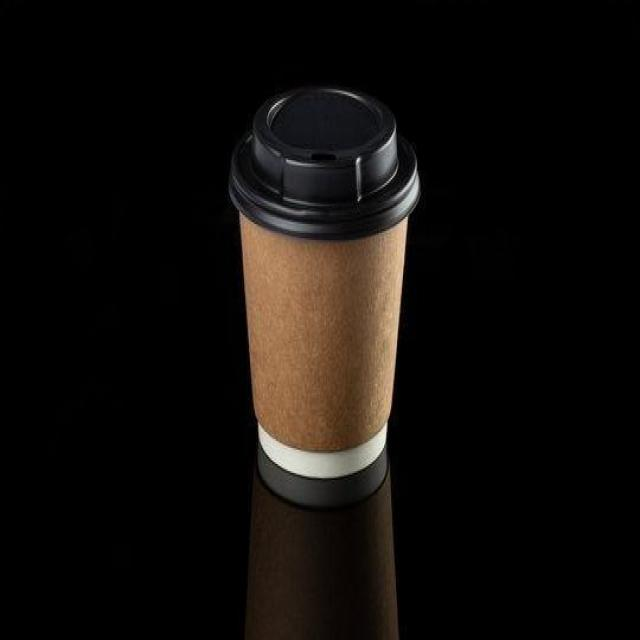cup-disposable: (226, 76, 422, 502)
